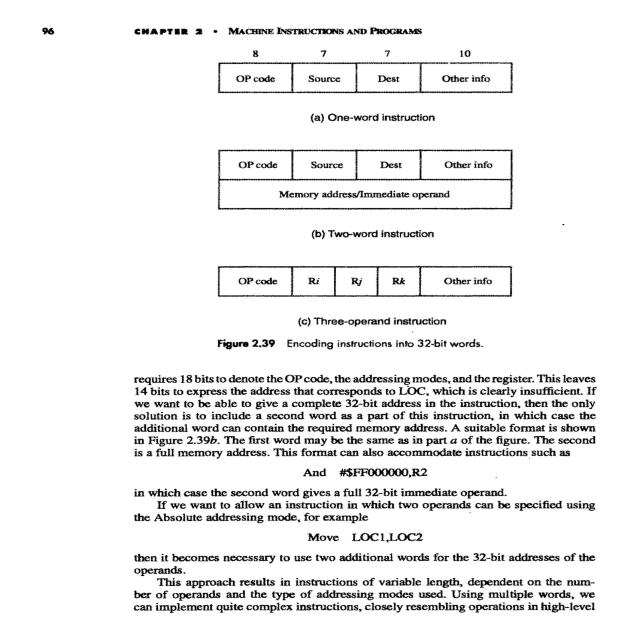diagram: (173, 40, 560, 360)
